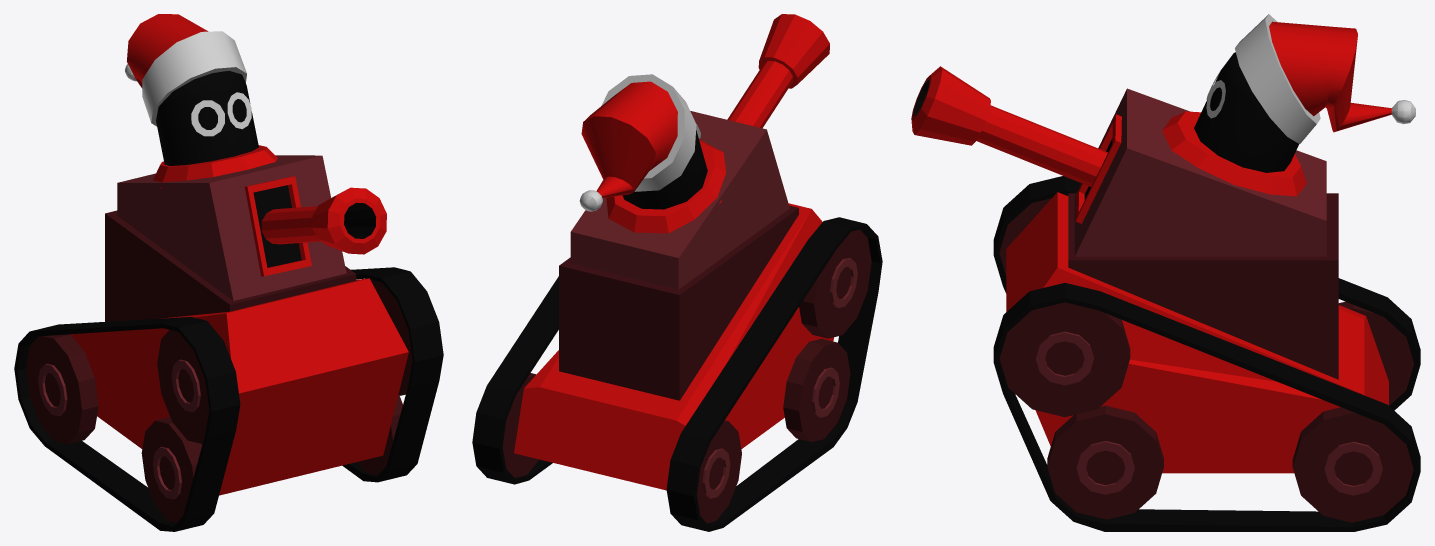
File: fractured tank.FBX
The picture shows the model from 3 angles, left to right: view 1: azimuth 30°, elevation 25°; view 2: azimuth 150°, elevation 25°; view 3: azimuth 270°, elevation 25°; orthographic projection. The views are drawn at different scales.
Parts seen in each view (by area): view 1: onderstel_Part_13, onderstel_Part_15, de dude, onderstel_Part_10, onderstel_Part_5, onderstel_Part_4, koepel_Part_4, onderstel_Part_1, koepel_Part_1, loop_Part_1, koepel_Part_3, onderstel_Part_8 (+7 smaller); view 2: onderstel_Part_15, onderstel_Part_12, de dude, onderstel_Part_5, onderstel_Part_2, onderstel_Part_4, onderstel_Part_9, koepel_Part_7, onderstel_Part_1, koepel_Part_1, onderstel_Part_8, loop_Part_1 (+8 smaller); view 3: onderstel_Part_7, onderstel_Part_13, de dude, onderstel_Part_12, onderstel_Part_2, koepel_Part_10, onderstel_Part_11, koepel_Part_2, onderstel_Part_14, loop_Part_1, onderstel_Part_3, onderstel_Part_5 (+11 smaller).
Part boxes in pixels (x1,y1,x2,y2): onderstel_Part_13: [292, 266, 443, 474]; onderstel_Part_15: [117, 258, 293, 464]; de dude: [125, 14, 258, 165]; onderstel_Part_10: [200, 293, 374, 468]; onderstel_Part_5: [14, 323, 143, 492]; onderstel_Part_4: [108, 400, 329, 531]; koepel_Part_4: [193, 188, 290, 300]; onderstel_Part_1: [37, 293, 158, 427]; koepel_Part_1: [148, 146, 280, 219]; loop_Part_1: [299, 187, 386, 254]; koepel_Part_3: [235, 155, 324, 211]; onderstel_Part_8: [105, 210, 142, 320]; onderstel_Part_15: [734, 203, 882, 363]; onderstel_Part_12: [472, 386, 673, 515]; de dude: [579, 74, 707, 211]; onderstel_Part_5: [642, 383, 784, 531]; onderstel_Part_2: [486, 286, 618, 406]; onderstel_Part_4: [755, 328, 871, 483]; onderstel_Part_9: [612, 281, 695, 440]; koepel_Part_7: [583, 201, 716, 289]; onderstel_Part_1: [697, 308, 793, 429]; koepel_Part_1: [688, 119, 769, 221]; onderstel_Part_8: [625, 276, 715, 383]; loop_Part_1: [749, 14, 829, 107]; onderstel_Part_7: [1095, 256, 1258, 531]; onderstel_Part_13: [993, 227, 1107, 518]; de dude: [1194, 14, 1415, 172]; onderstel_Part_12: [1231, 357, 1420, 531]; onderstel_Part_2: [1254, 285, 1388, 464]; koepel_Part_10: [1214, 160, 1326, 256]; onderstel_Part_11: [1135, 256, 1280, 381]; koepel_Part_2: [1117, 160, 1215, 256]; onderstel_Part_14: [1225, 222, 1338, 333]; loop_Part_1: [911, 66, 1023, 155]; onderstel_Part_3: [1069, 453, 1230, 531]; onderstel_Part_5: [1338, 291, 1420, 410].
Size of the model in its own units: 133 by 228 by 234.
